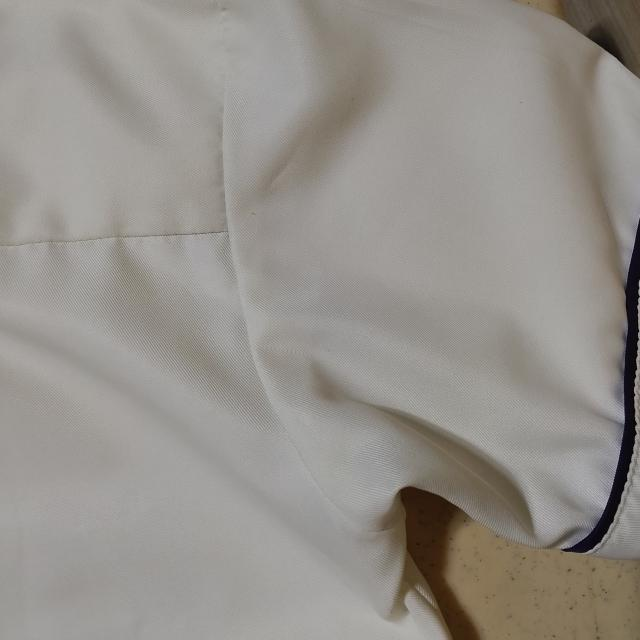education_male_uniform: (232, 0, 640, 606)
